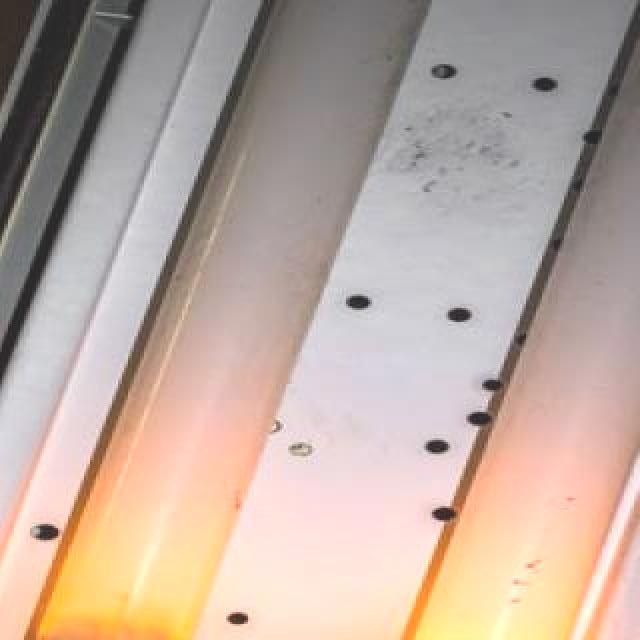fluorescent tube: (0, 0, 472, 640), (294, 0, 640, 640)
